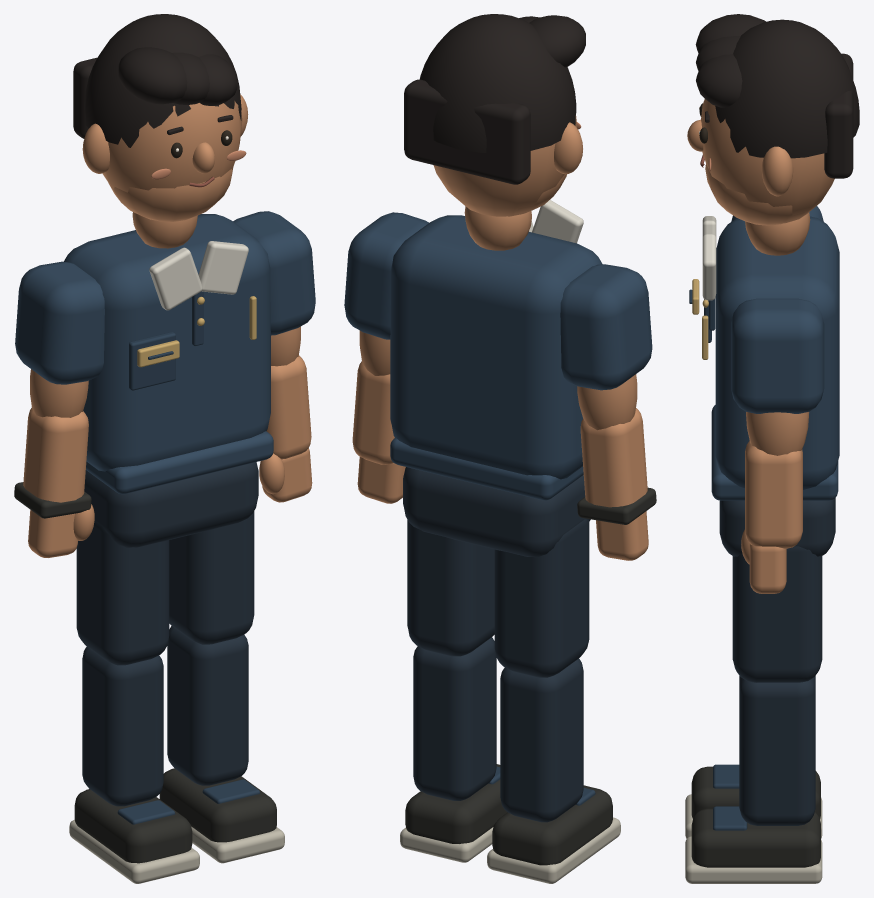
The model's file is manager.glb.
The picture shows the model from 3 angles, left to right: view 1: azimuth 30°, elevation 25°; view 2: azimuth 150°, elevation 25°; view 3: azimuth 270°, elevation 25°; orthographic projection. The views are drawn at different scales.
Parts seen in each view (by area): view 1: Spine_crew_shirt, Head_crew_hair, Head_crew_skin, LeftKnee_crew_trousers, RightKnee_crew_trousers, LeftHip_crew_trousers, LeftShoulder_crew_shirt, RightHip_crew_trousers, Hips_crew_trousers, RightShoulder_crew_shirt, LeftElbow_crew_skin, LeftAnkle_crew_shoes (+15 smaller); view 2: Spine_crew_shirt, Head_crew_hair, LeftKnee_crew_trousers, RightKnee_crew_trousers, LeftHip_crew_trousers, Hips_crew_trousers, LeftShoulder_crew_shirt, RightHip_crew_trousers, Head_crew_skin, RightShoulder_crew_shirt, LeftAnkle_crew_shoes, LeftElbow_crew_skin (+11 smaller); view 3: Head_crew_hair, Spine_crew_shirt, RightKnee_crew_trousers, RightShoulder_crew_shirt, RightHip_crew_trousers, Head_crew_skin, RightAnkle_crew_shoes, RightElbow_crew_skin, Hips_crew_trousers, RightAnkle_crew_soles, RightShoulder_crew_skin, RightWrist_crew_skin (+8 smaller).
Part boxes in pixels (x1,y1,x2,y2): Spine_crew_shirt: (63,214,273,494); Head_crew_hair: (73,14,241,147); Head_crew_skin: (82,94,248,221); LeftKnee_crew_trousers: (82,647,163,806); RightKnee_crew_trousers: (167,626,248,785); LeftHip_crew_trousers: (76,521,169,665); LeftShoulder_crew_shirt: (15,261,104,384); RightHip_crew_trousers: (169,511,254,644); Hips_crew_trousers: (84,462,258,547); RightShoulder_crew_shirt: (233,211,315,335); LeftElbow_crew_skin: (23,407,88,502); LeftAnkle_crew_shoes: (74,789,192,863); Spine_crew_shirt: (390,215,602,500); Head_crew_hair: (404,14,585,184); LeftKnee_crew_trousers: (500,658,583,822); RightKnee_crew_trousers: (413,637,496,800); LeftHip_crew_trousers: (494,519,589,677); Hips_crew_trousers: (403,467,590,557); LeftShoulder_crew_shirt: (560,264,652,390); RightHip_crew_trousers: (407,519,494,656); Head_crew_skin: (433,115,582,216); RightShoulder_crew_shirt: (344,212,428,339); LeftAnkle_crew_shoes: (492,785,612,865); LeftElbow_crew_skin: (580,408,647,507); Head_crew_hair: (695,14,859,178); Spine_crew_shirt: (711,216,839,500); RightKnee_crew_trousers: (739,676,815,825); RightShoulder_crew_shirt: (731,298,824,413); RightHip_crew_trousers: (732,546,822,682); Head_crew_skin: (687,99,834,225); RightAnkle_crew_shoes: (691,808,820,867); RightElbow_crew_skin: (745,441,802,548); Hips_crew_trousers: (719,498,835,556); RightAnkle_crew_soles: (685,836,822,883); RightShoulder_crew_skin: (746,412,809,455); RightWrist_crew_skin: (741,529,786,593).
Bounding box in the file's own units: 0.6129 × 1.72 × 0.3309.
